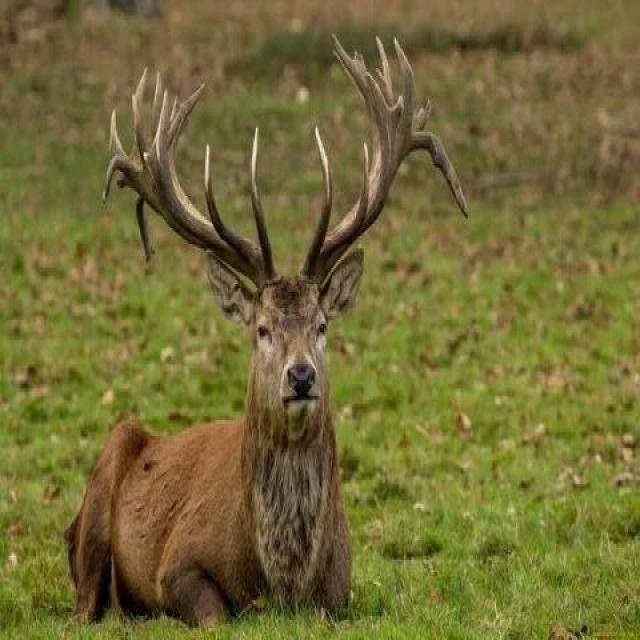deer: (132, 123, 448, 608)
